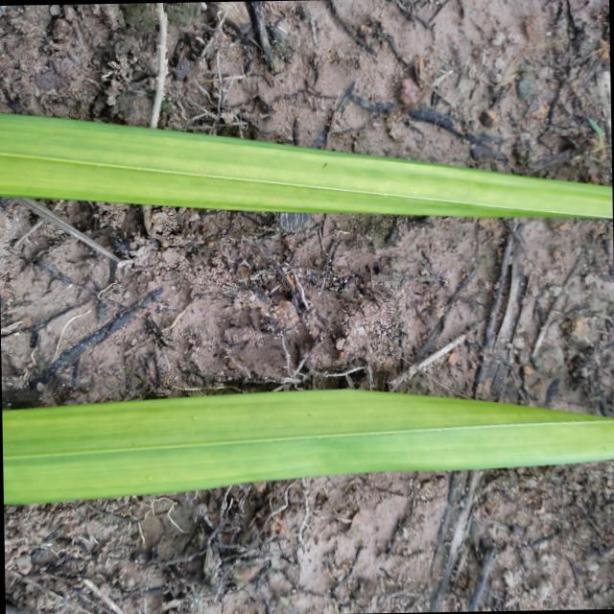nitrogen: (0, 390, 614, 504), (0, 107, 614, 219)
